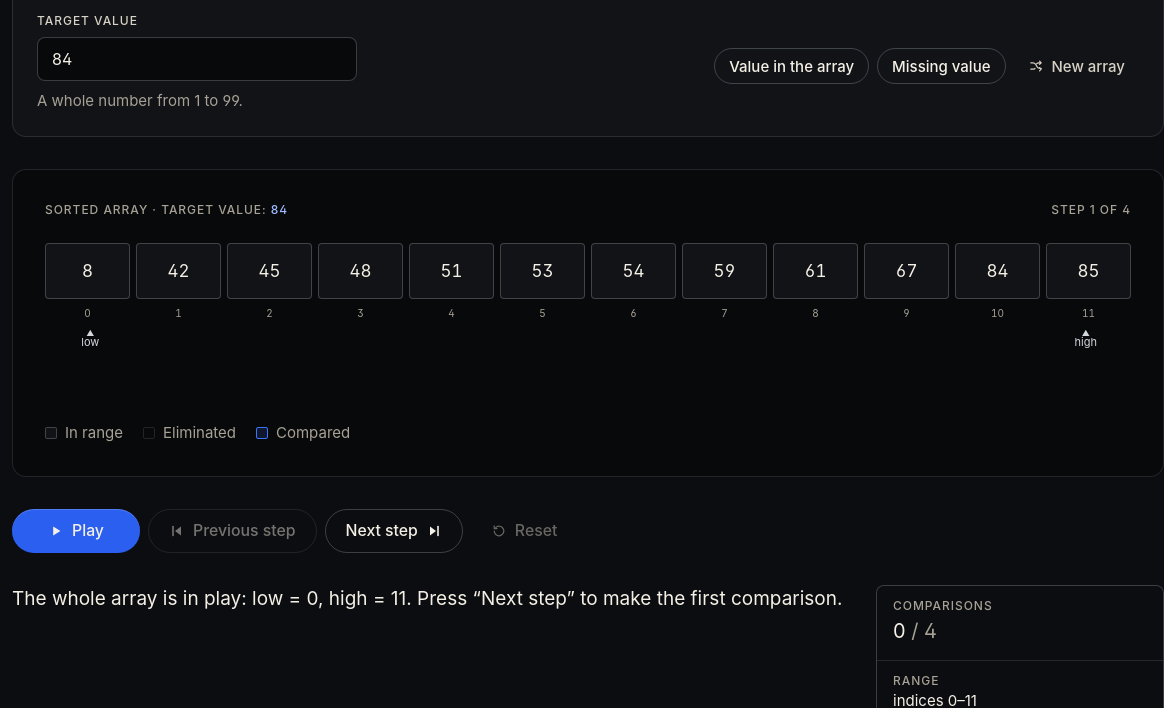
Test: BinarySearchVisualizer › steps to a found outcome with Next and back with Previous
Click the button "Next step": [394, 531] box [324, 509, 463, 553]
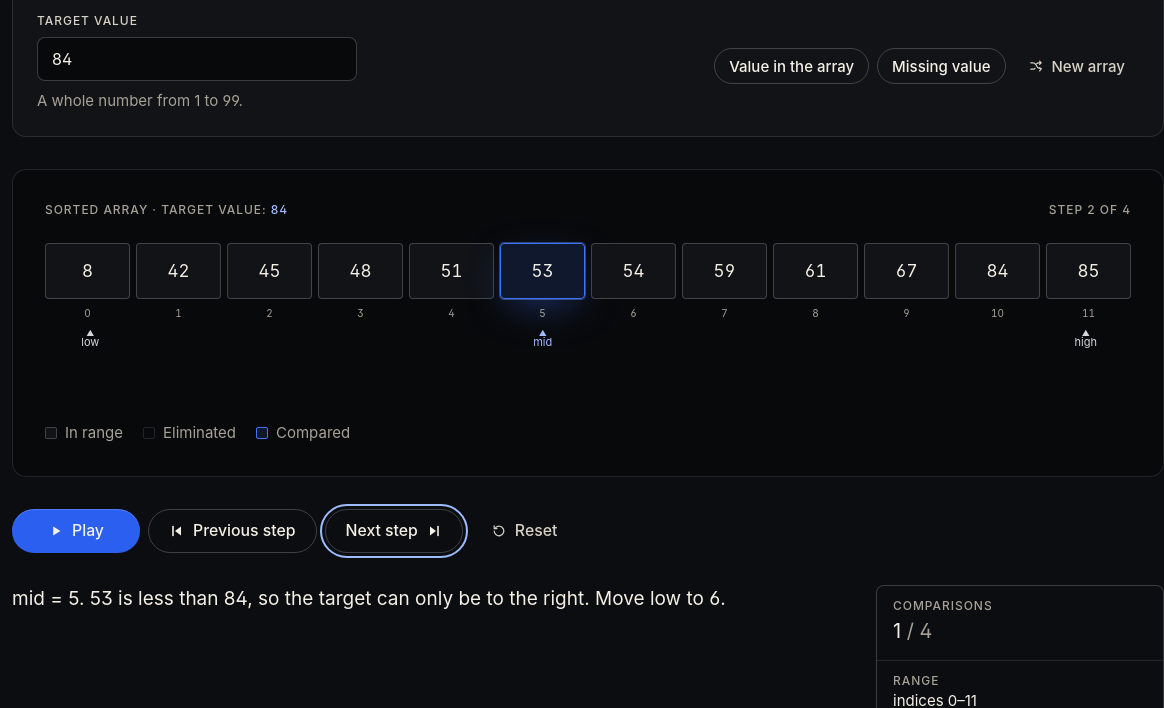
Click the button "Next step": [394, 531] box [324, 509, 463, 553]
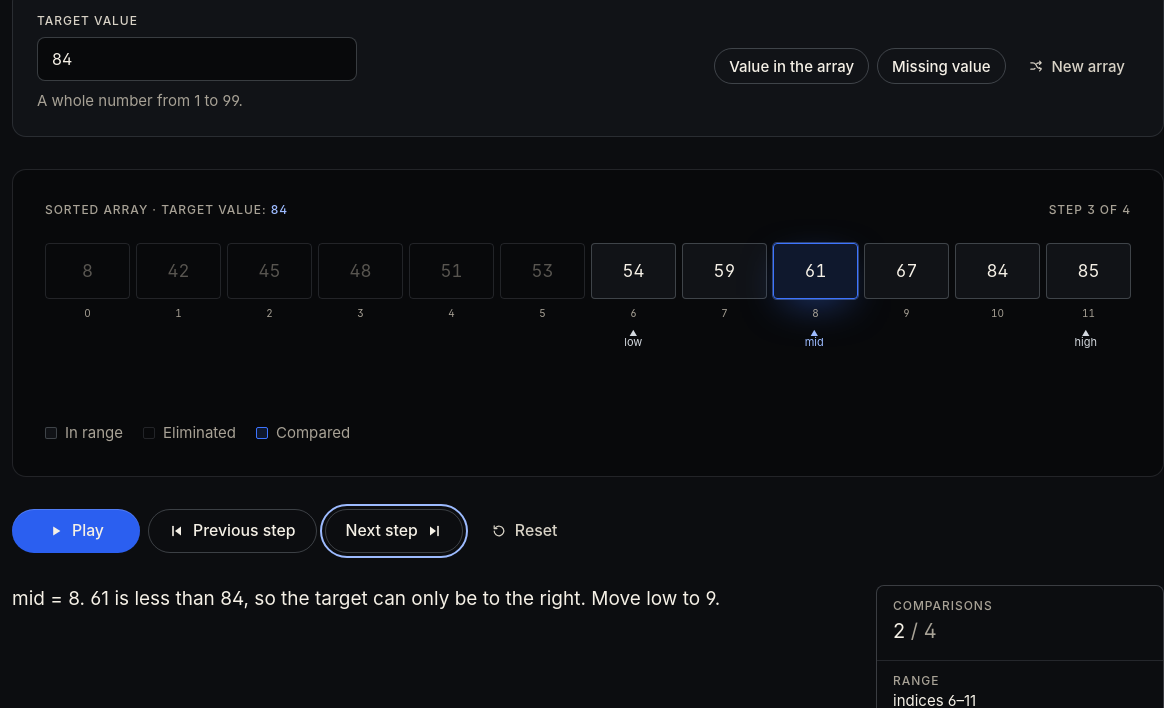
Click the button "Next step": [394, 531] box [324, 509, 463, 553]
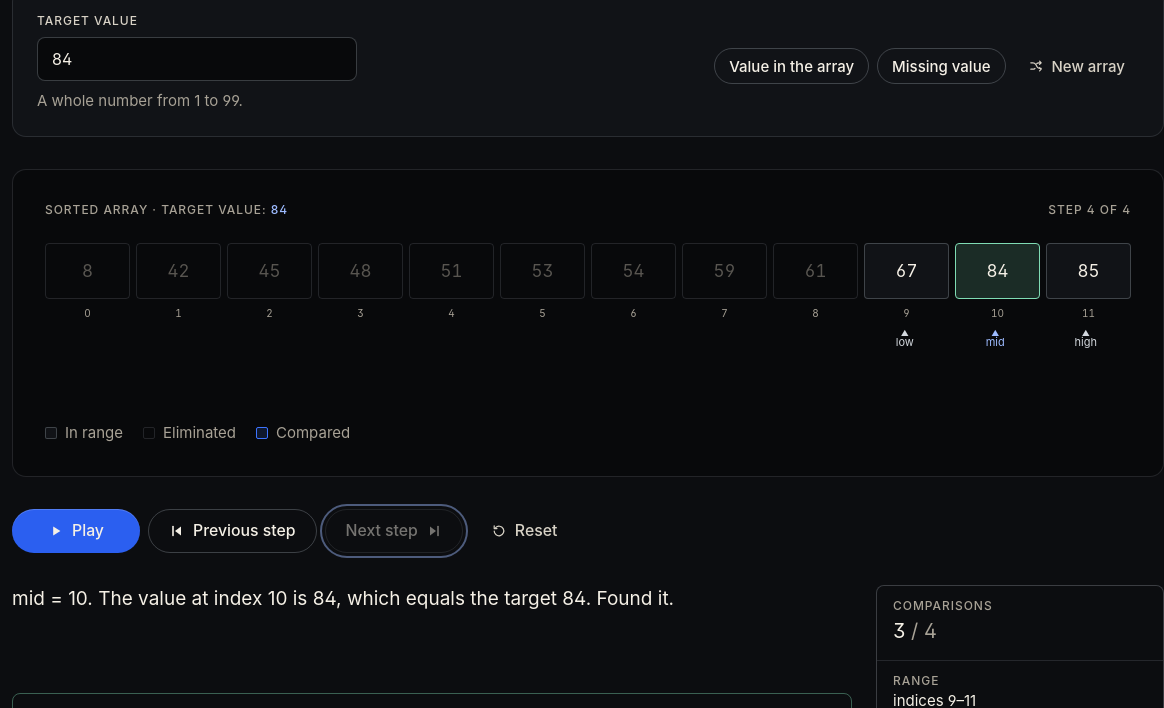
Click the button "Previous step": [232, 531] box [148, 509, 316, 553]
(page scrolled)
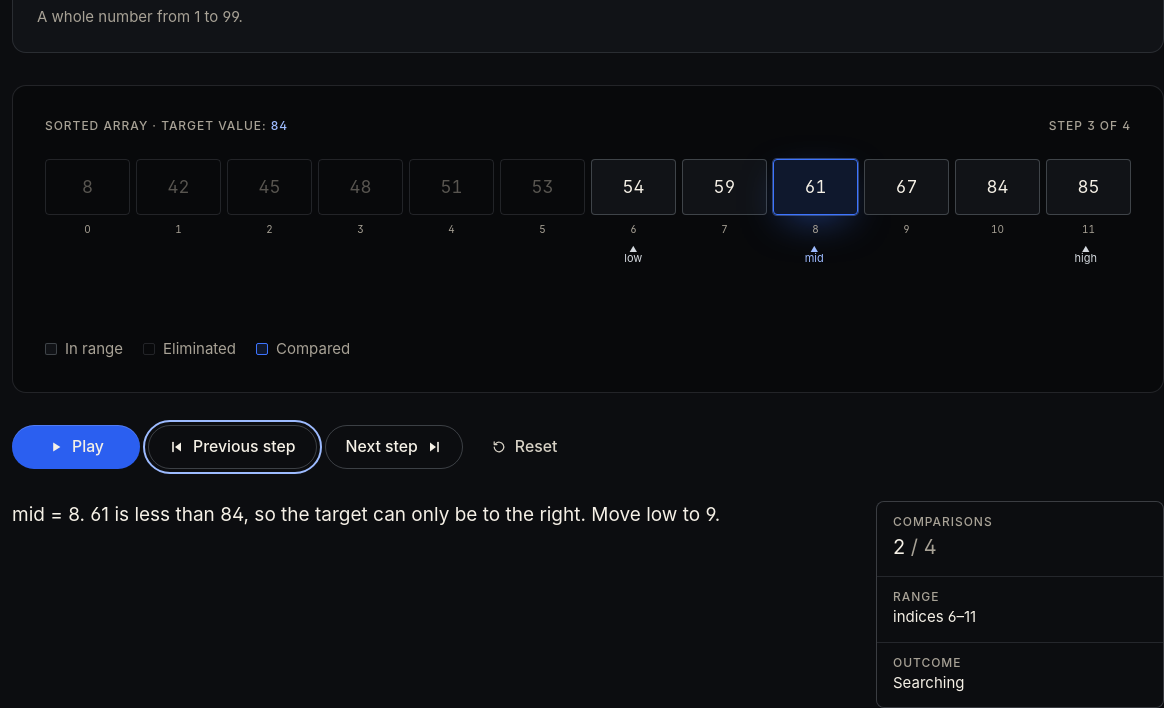
Now the text with test id "search-outcome" reads "Searching", box [893, 673, 964, 692]
